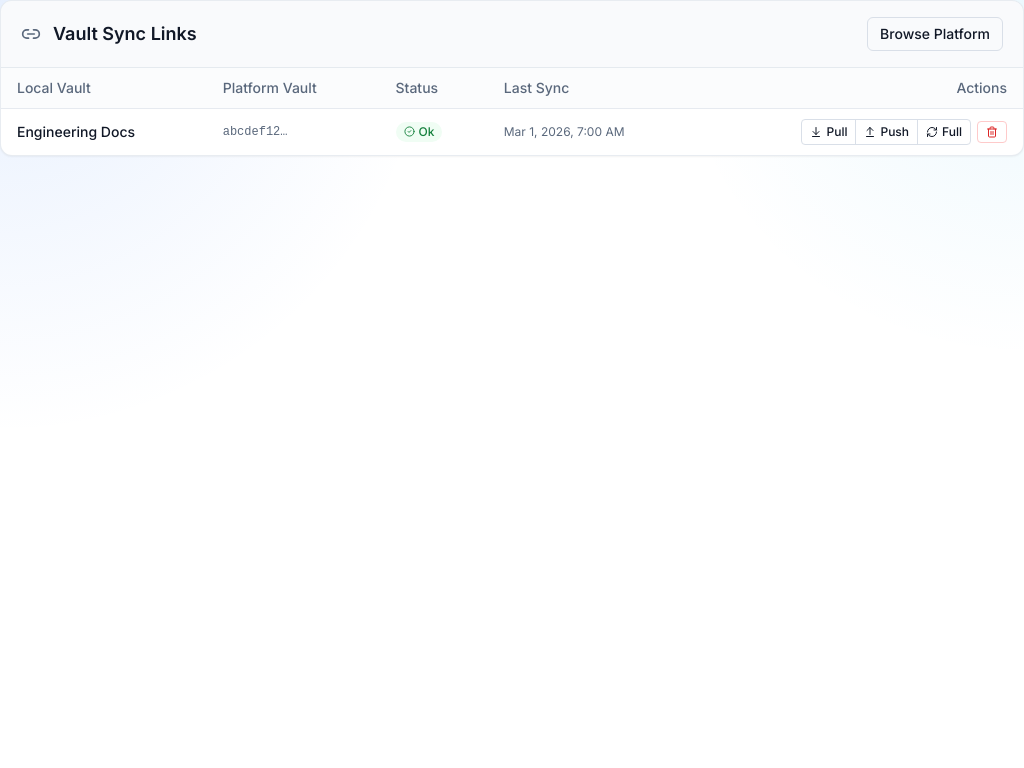
Scenario: VaultLinksTable › Should_ShowDeleteConfirmation_WhenDeleteClicked
Step 1. Click the button named "remove link" → (992, 132), box [977, 121, 1007, 143]
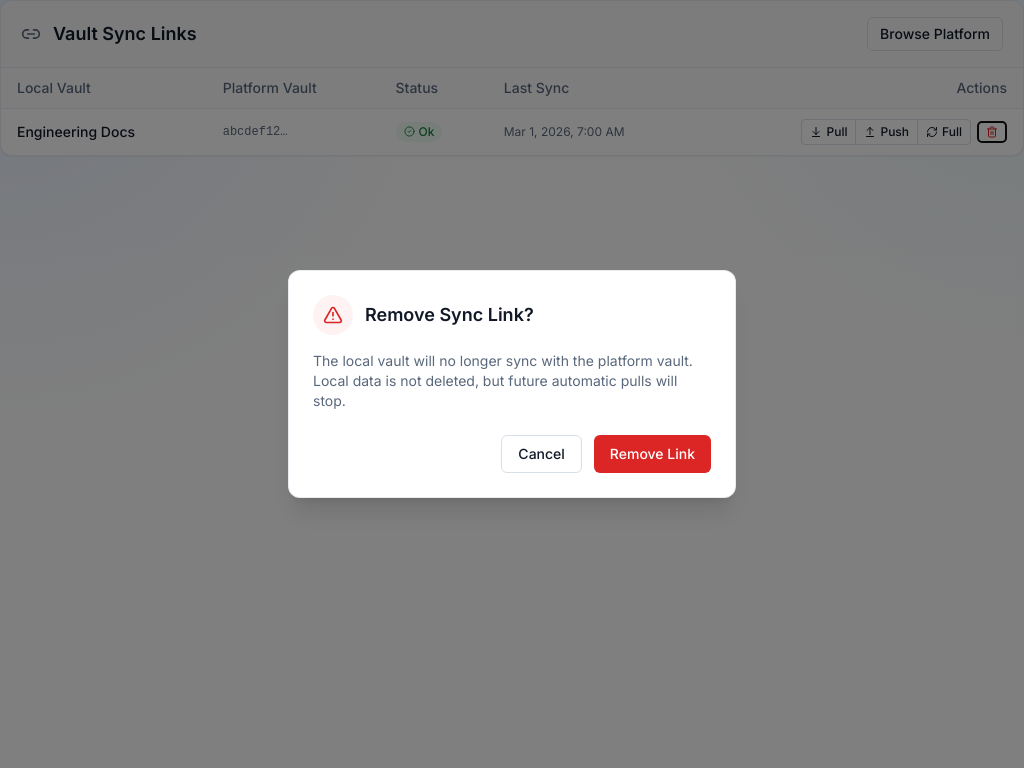
Check: the heading "Remove Sync Link?" is shown, box [365, 301, 534, 329]
